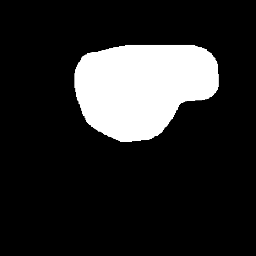mass: (63, 41, 223, 155)
